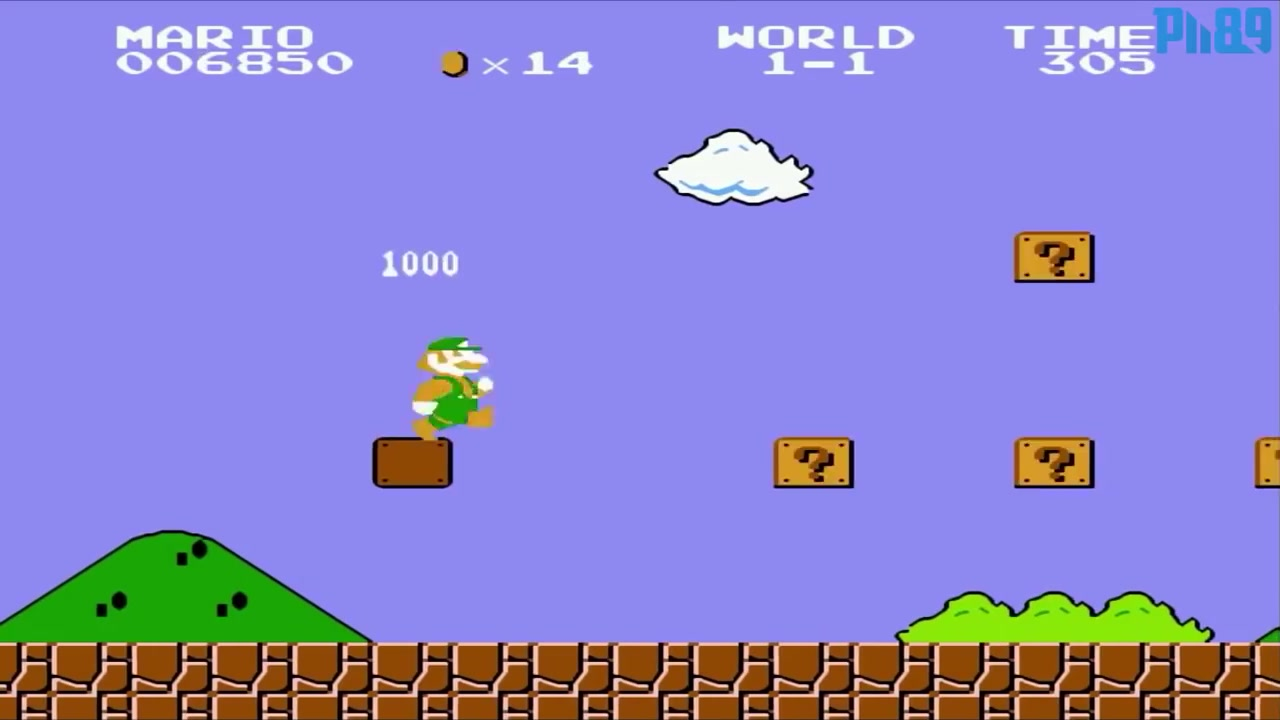mario: (406, 329, 499, 443)
